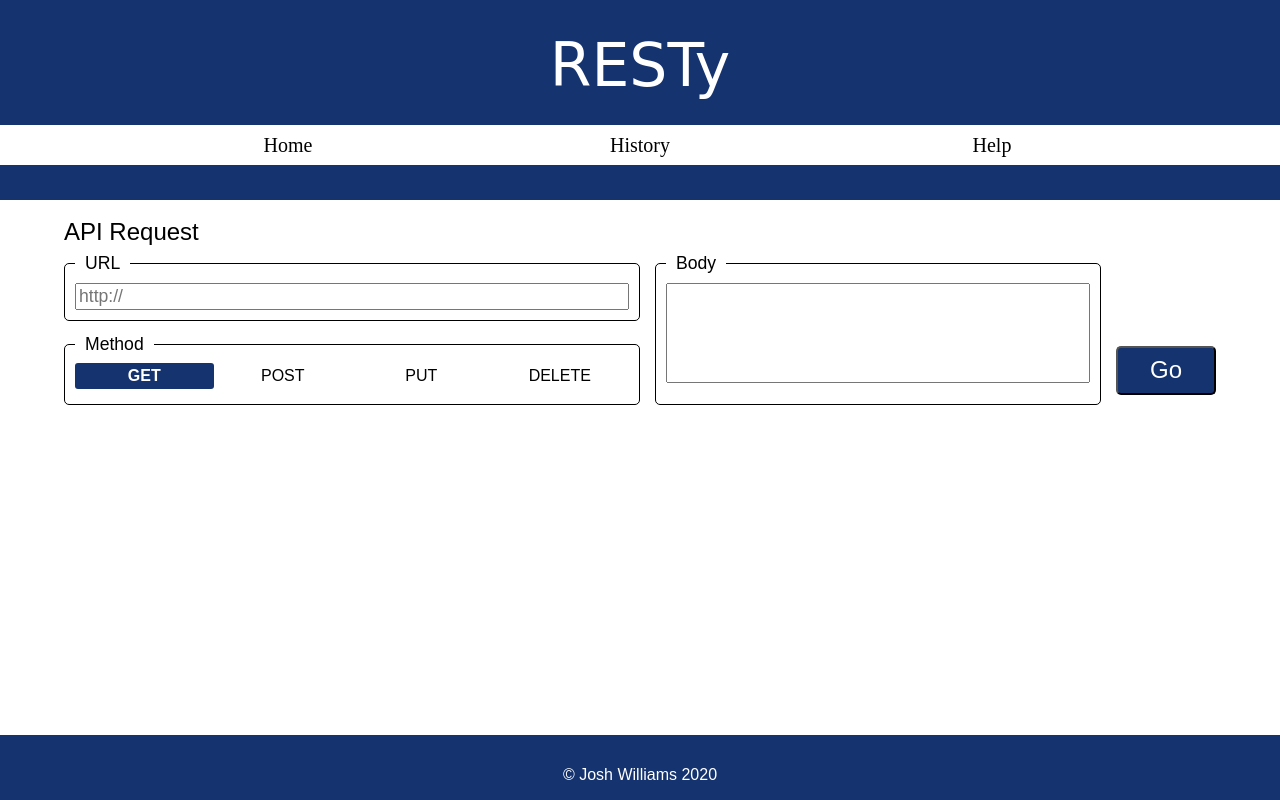
Test case: resty tests › loads the history page
Click the link with test id "historylink" at coordinates (640, 145), box [610,135,670,155]
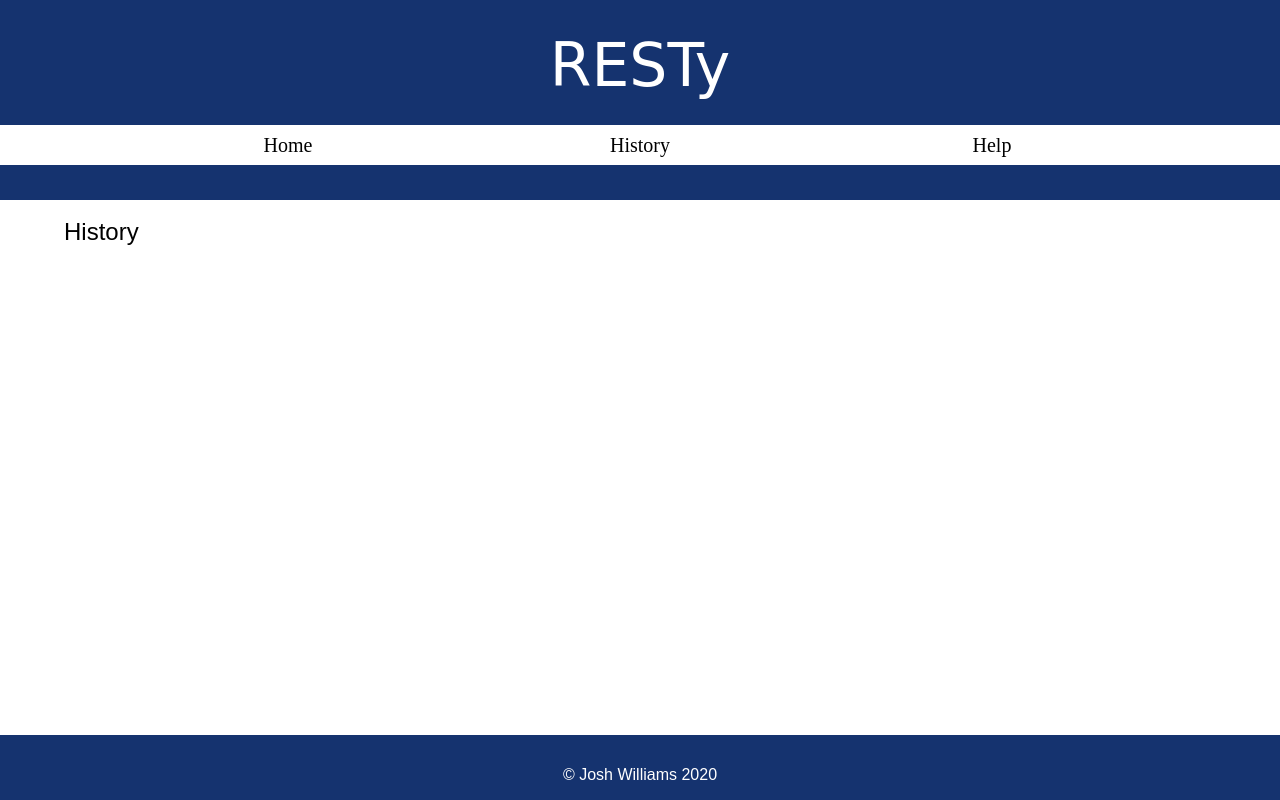
expect the heading "History" is shown: met, box [64,218,139,245]
